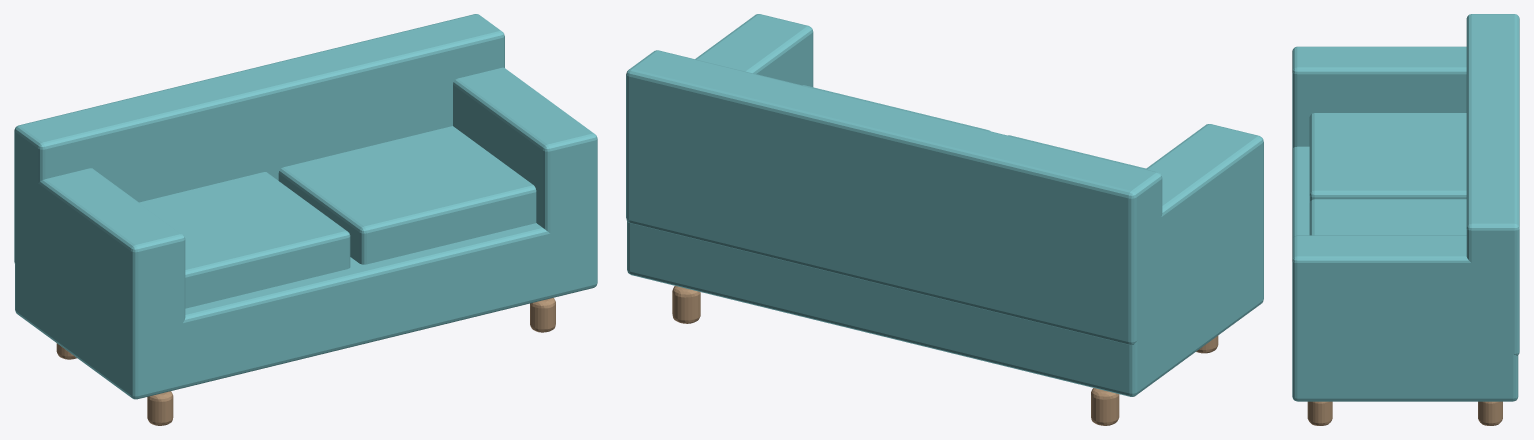
The model's file is Sofa.fbx.
3 renders of one model, left to right at view 1: azimuth 30°, elevation 25°; view 2: azimuth 150°, elevation 25°; view 3: azimuth 270°, elevation 25°, orthographic. The views are drawn at different scales.
Visible parts, largest first — view 1: Sofa; view 2: Sofa; view 3: Sofa.
Part boxes in pixels (box(x1,y1,x2,y2)): Sofa: box(14, 14, 597, 425); Sofa: box(626, 14, 1263, 425); Sofa: box(1292, 14, 1519, 425).
Size of the model in its own units: 1.9 by 0.895 by 0.855.
